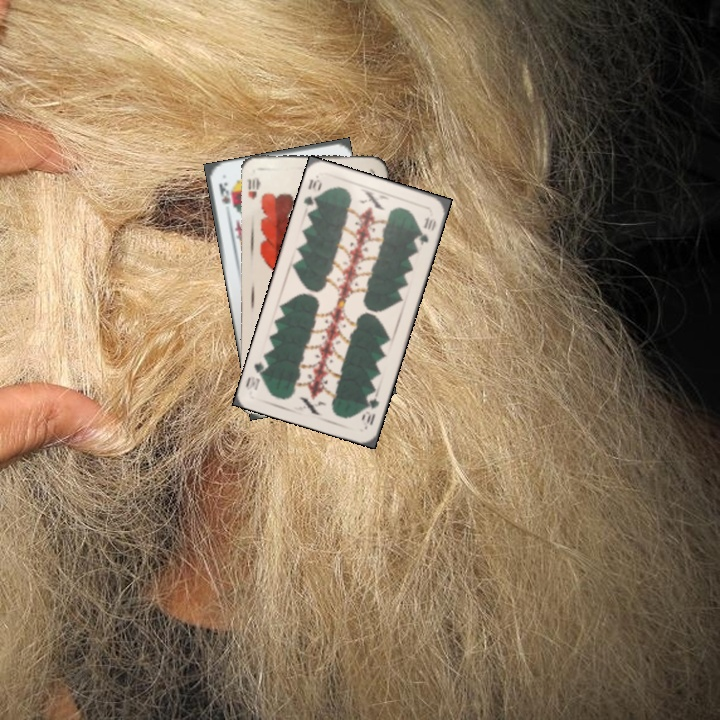G10: (299, 175, 324, 214), (358, 388, 382, 428)
H10: (243, 173, 263, 202)
SK: (215, 178, 233, 206)
